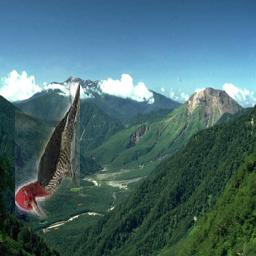Woodpecker: (16, 82, 81, 220)
